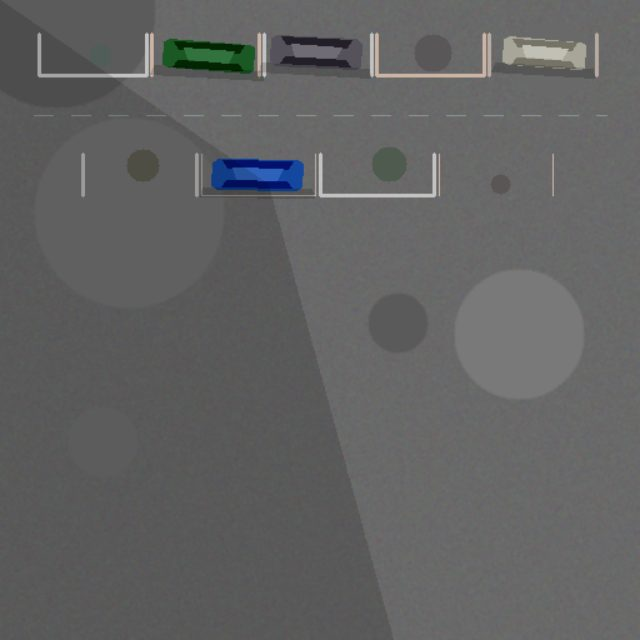space-empty: (82, 154, 196, 195), (320, 154, 434, 195), (439, 154, 552, 195), (376, 34, 484, 75), (39, 34, 146, 75)
space-occupied: (201, 154, 315, 195), (151, 34, 259, 75), (264, 34, 371, 75), (489, 34, 596, 75)
